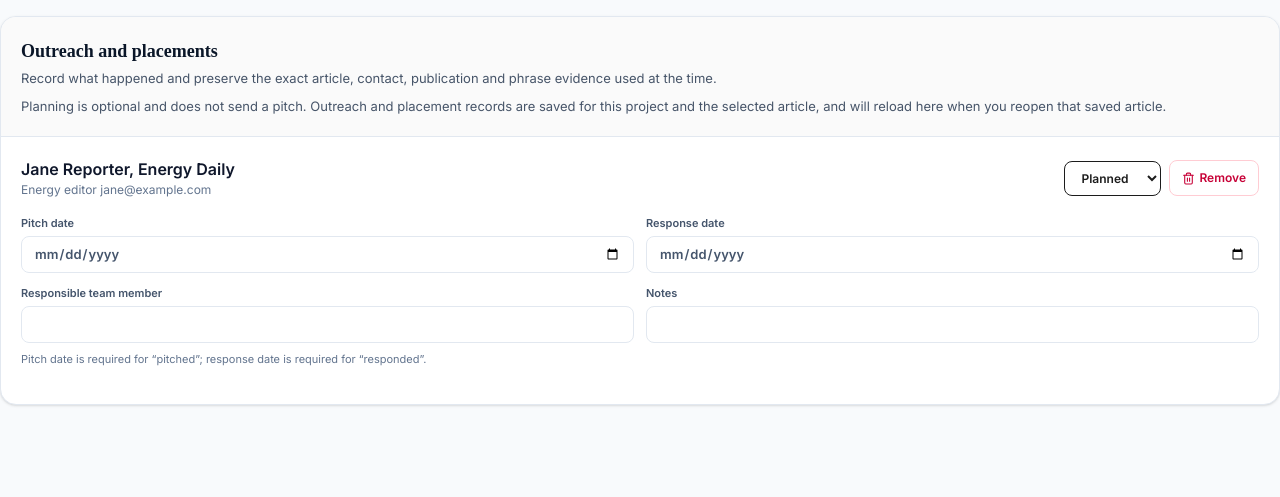
Scenario: MediaOutreachPanel › shows a date and notes save confirmation after successful updates
Type "2026-09-01" into the date field labelled "Pitch date" at [328, 254], box [21,236,634,273]
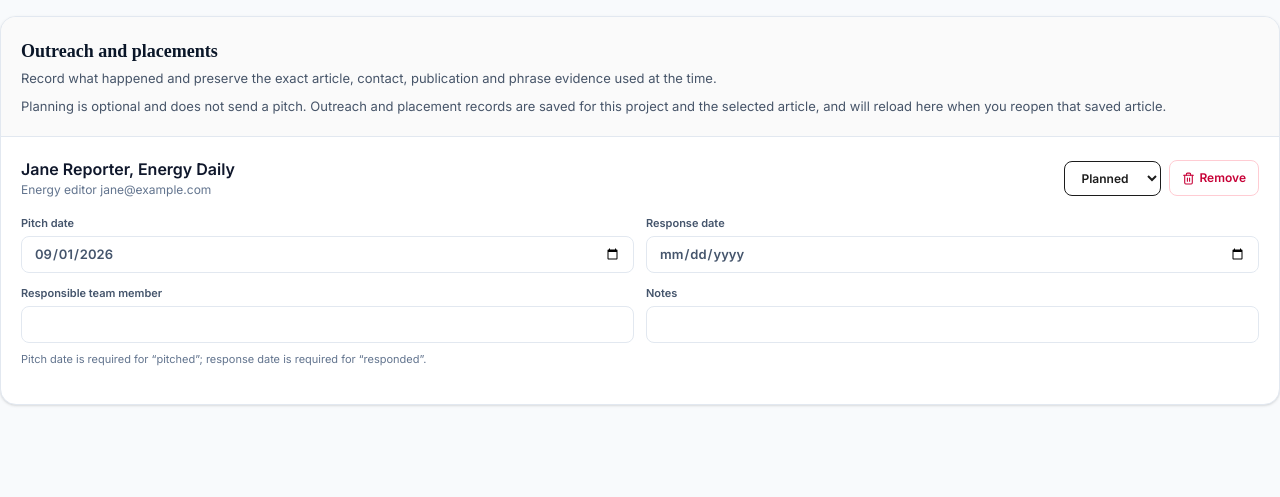
Leave the date field labelled "Pitch date", box [21,236,634,273]
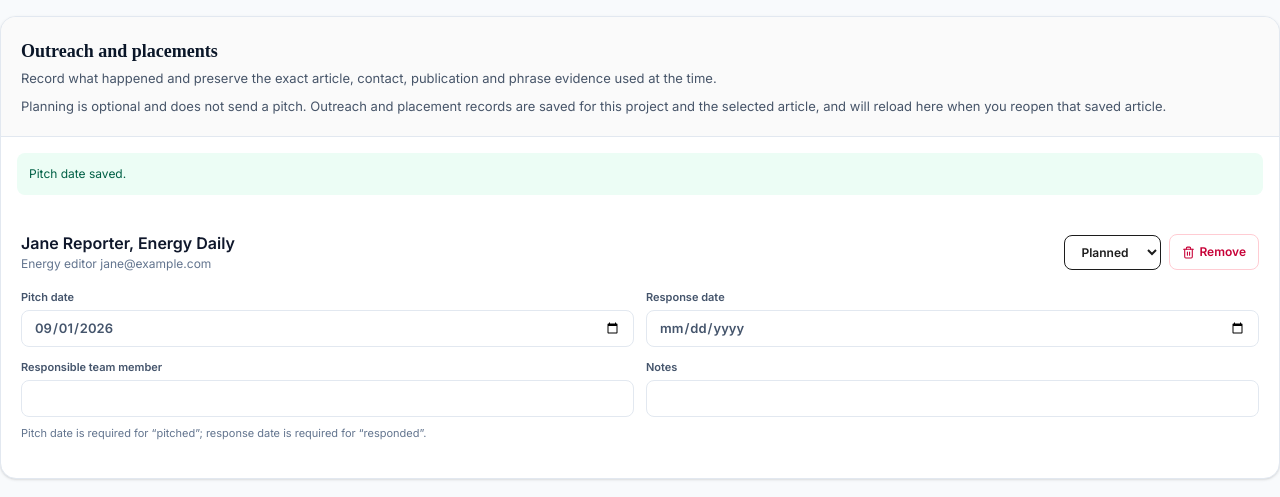
Result: the message reads "Pitch date saved." at [29,166,126,181]
Type "Follow up next week" into the field labelled "Notes" at [952, 398], box [646,380,1259,417]
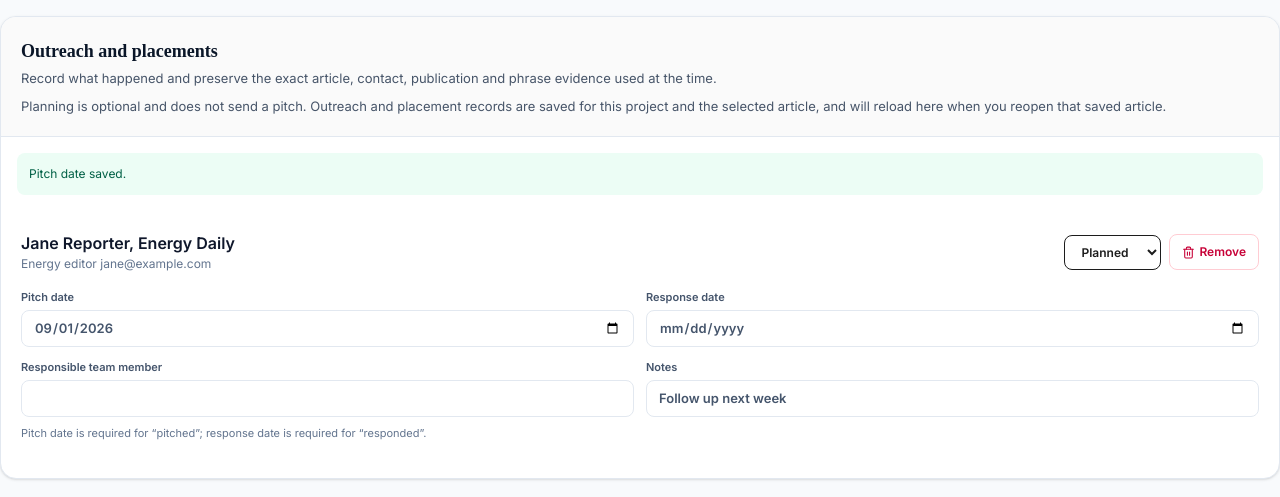
Leave the field labelled "Notes", box [646,380,1259,417]
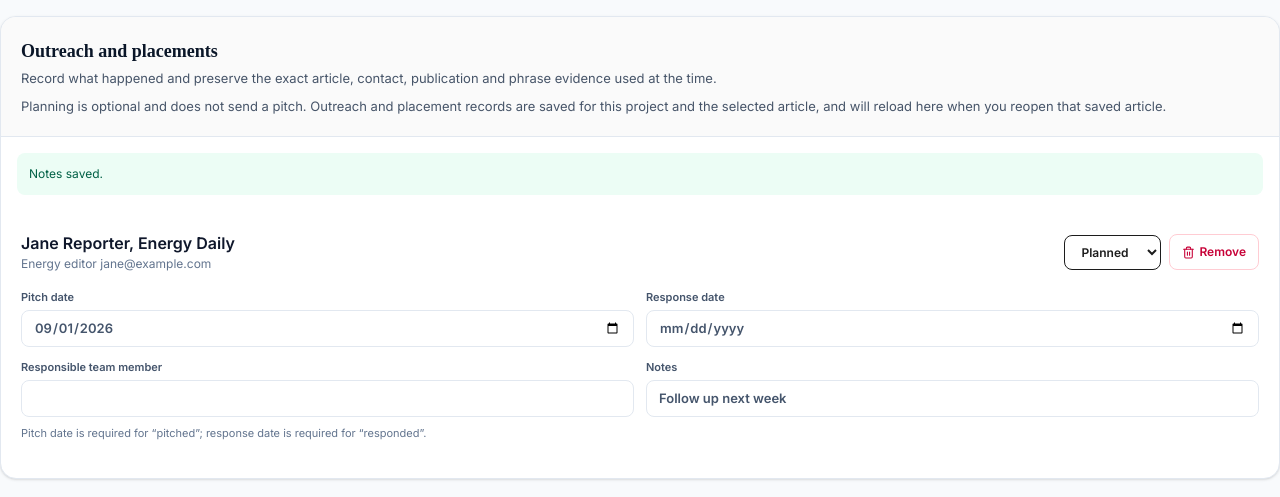
Result: the message reads "Notes saved." at [29,166,103,181]
